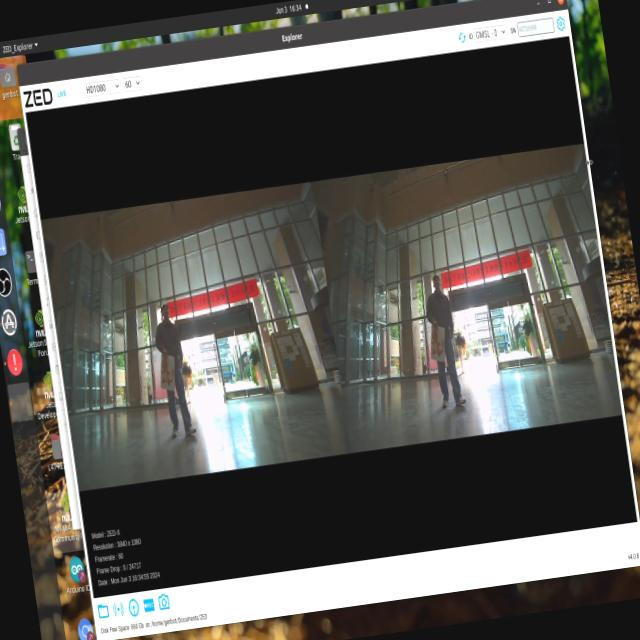red: (156, 352, 176, 392), (424, 322, 442, 360)
